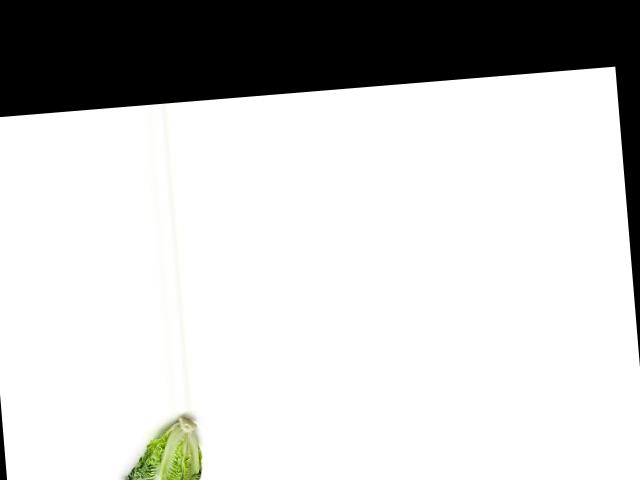lettuce: (107, 418, 209, 480)
